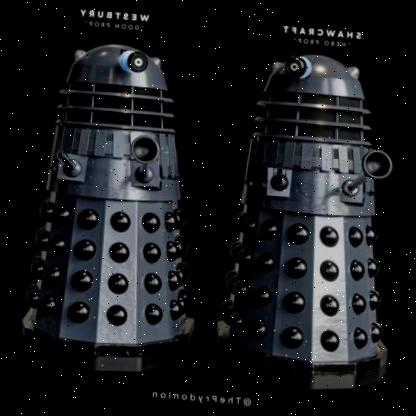dalek: (206, 34, 411, 398), (13, 28, 211, 374)
